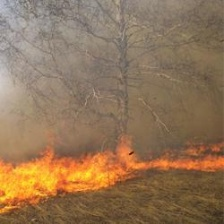fire: (1, 134, 220, 209)
